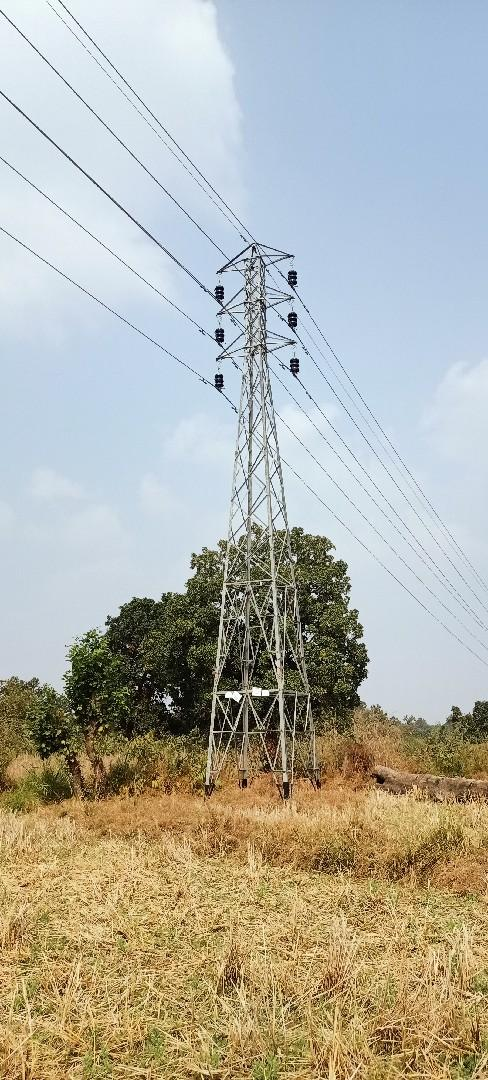GSM Antenna: (201, 238, 320, 765)
